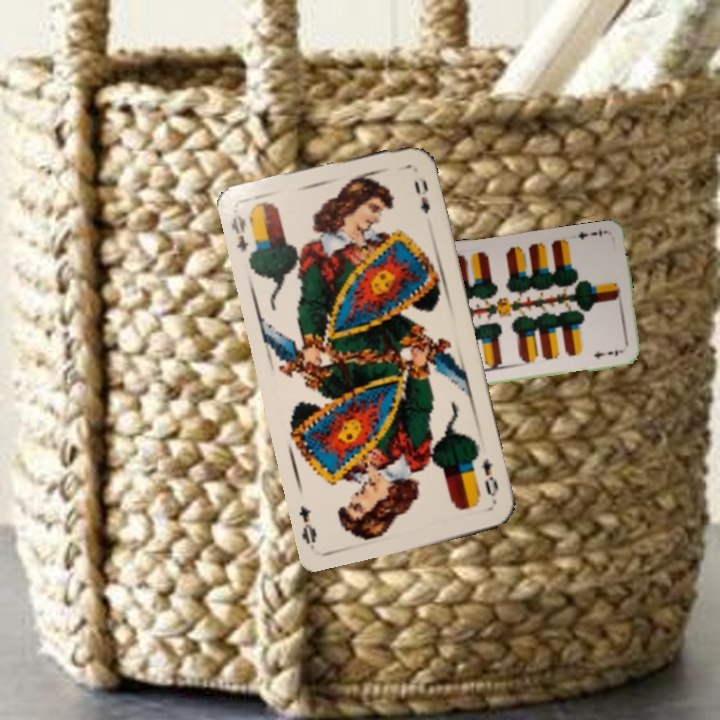E7: (574, 225, 604, 242)
EO: (477, 455, 501, 506), (227, 210, 251, 255)
